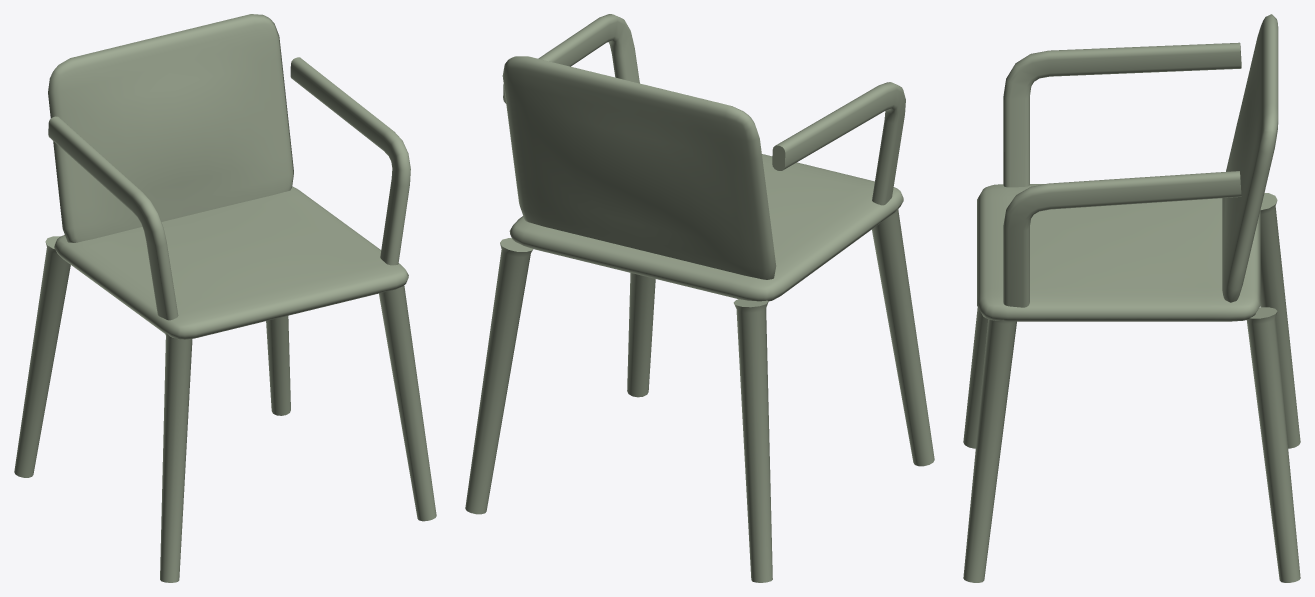
The model's file is silla_apilable_salvia.glb.
3 renders of one model, left to right at view 1: azimuth 30°, elevation 25°; view 2: azimuth 150°, elevation 25°; view 3: azimuth 270°, elevation 25°, orthographic. The views are drawn at different scales.
Visible parts, largest first — view 1: silla_apilable_salvia; view 2: silla_apilable_salvia; view 3: silla_apilable_salvia.
Boxes of the visible parts, x1=… form: silla_apilable_salvia: x1=14, y1=14, x2=436, y2=582; silla_apilable_salvia: x1=465, y1=14, x2=934, y2=582; silla_apilable_salvia: x1=963, y1=14, x2=1300, y2=582.
Bounding box in the file's own units: 0.5213 × 0.7504 × 0.5117.
